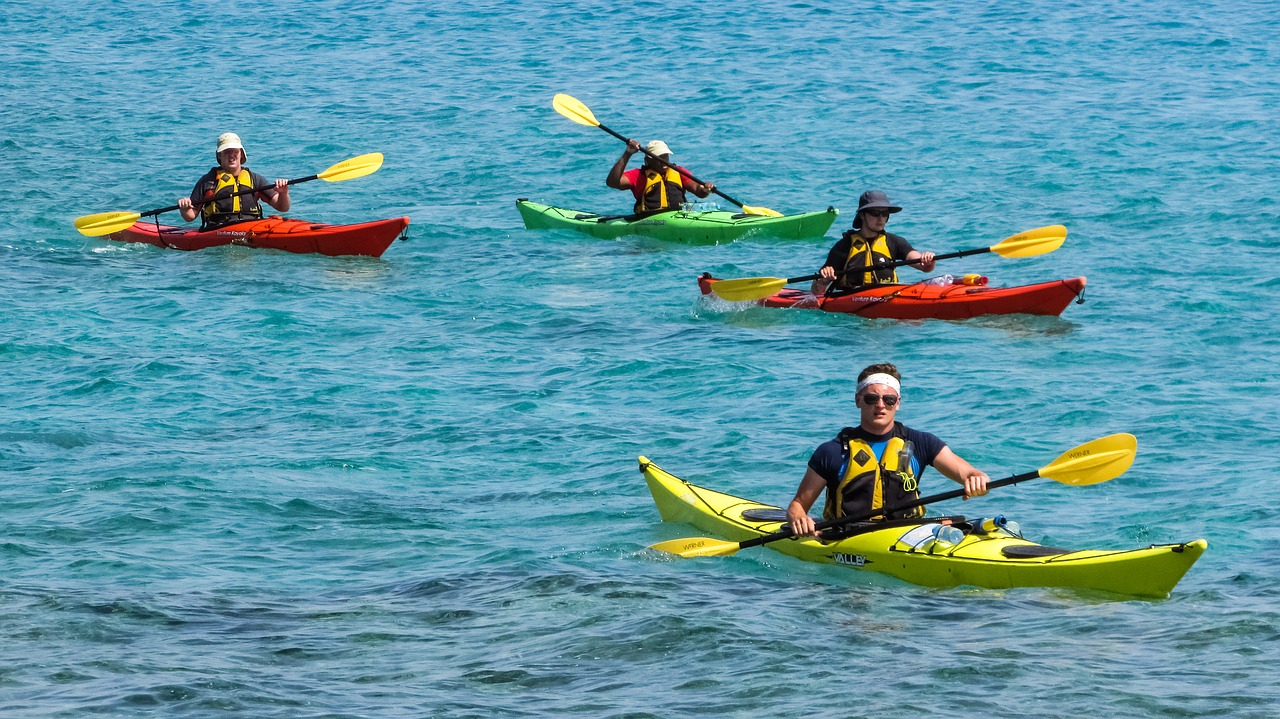kayak: (626, 451, 1209, 620), (690, 258, 1115, 343), (79, 194, 424, 274), (511, 187, 842, 245)
